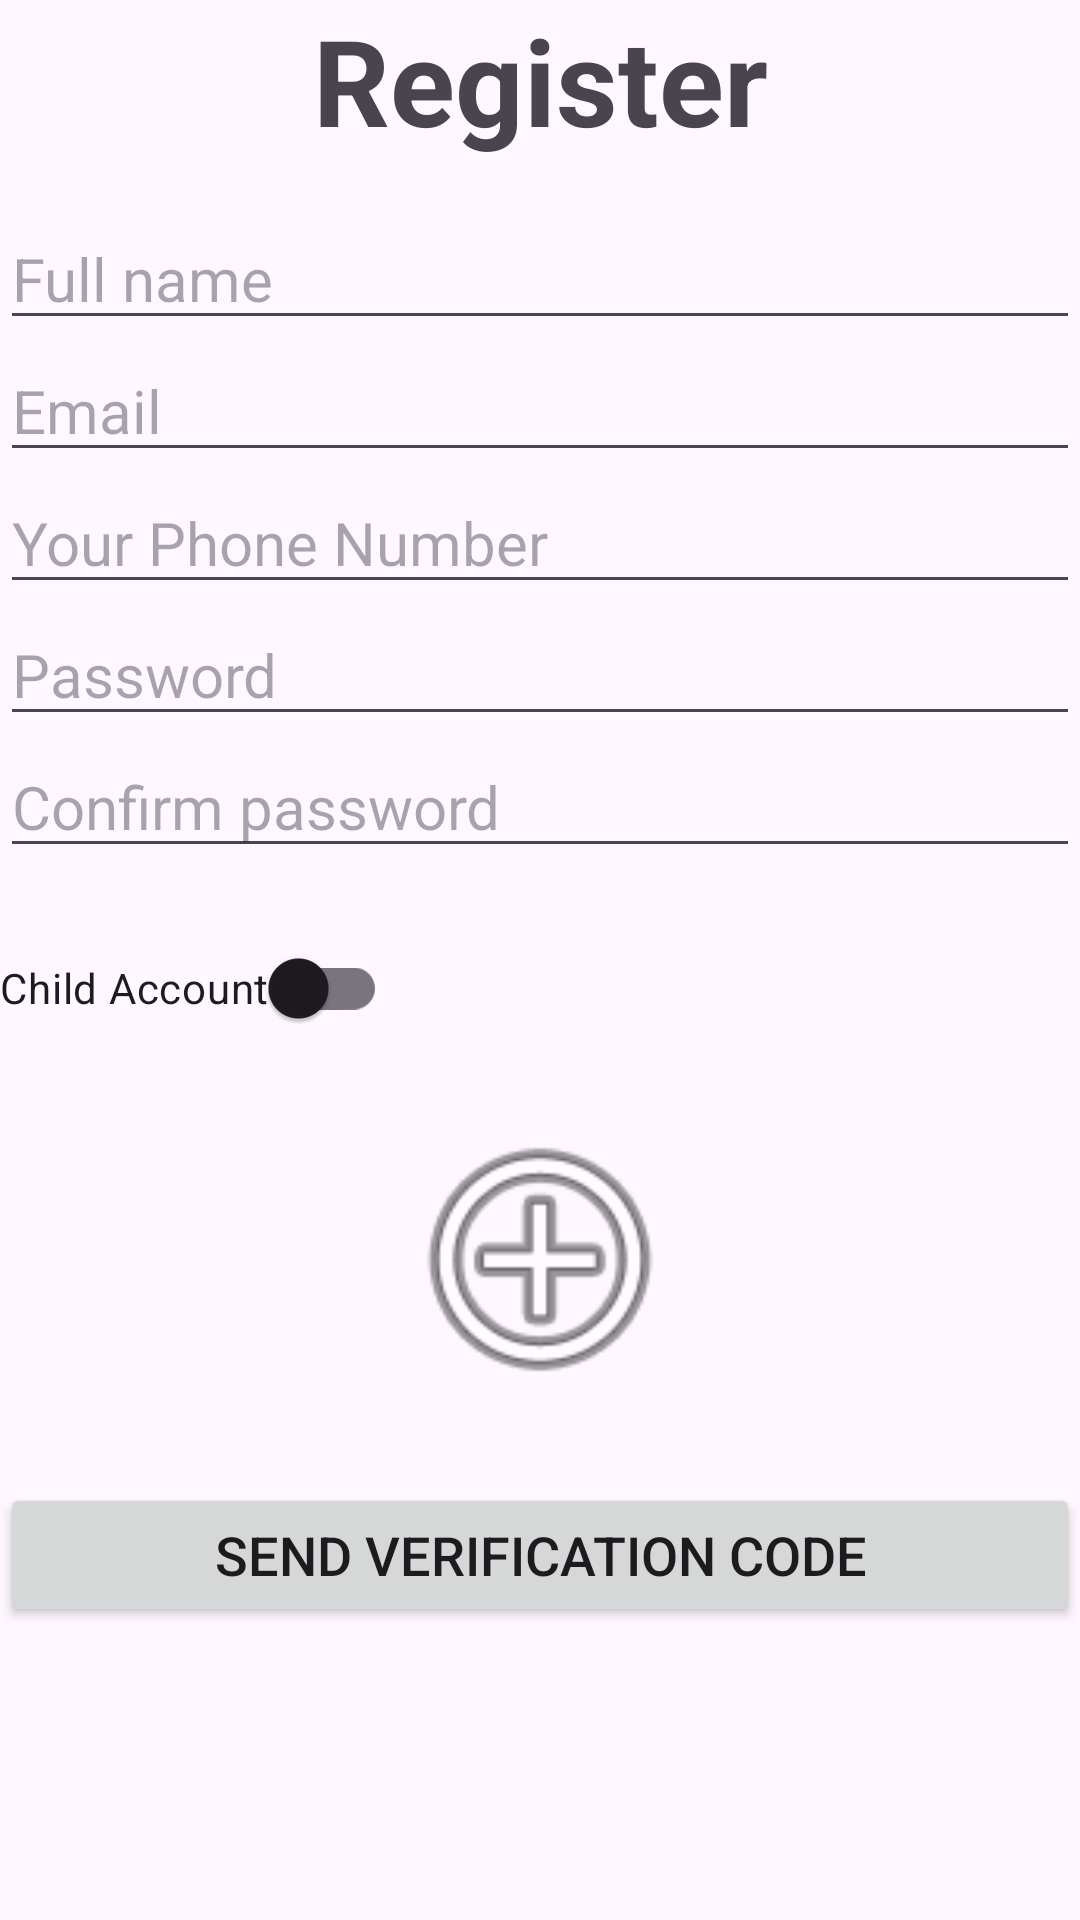

Screen size 1080*1920. Icon name, then its box in pixels as [x1, y1, x2, y2]:
add: [428, 1148, 652, 1371]
